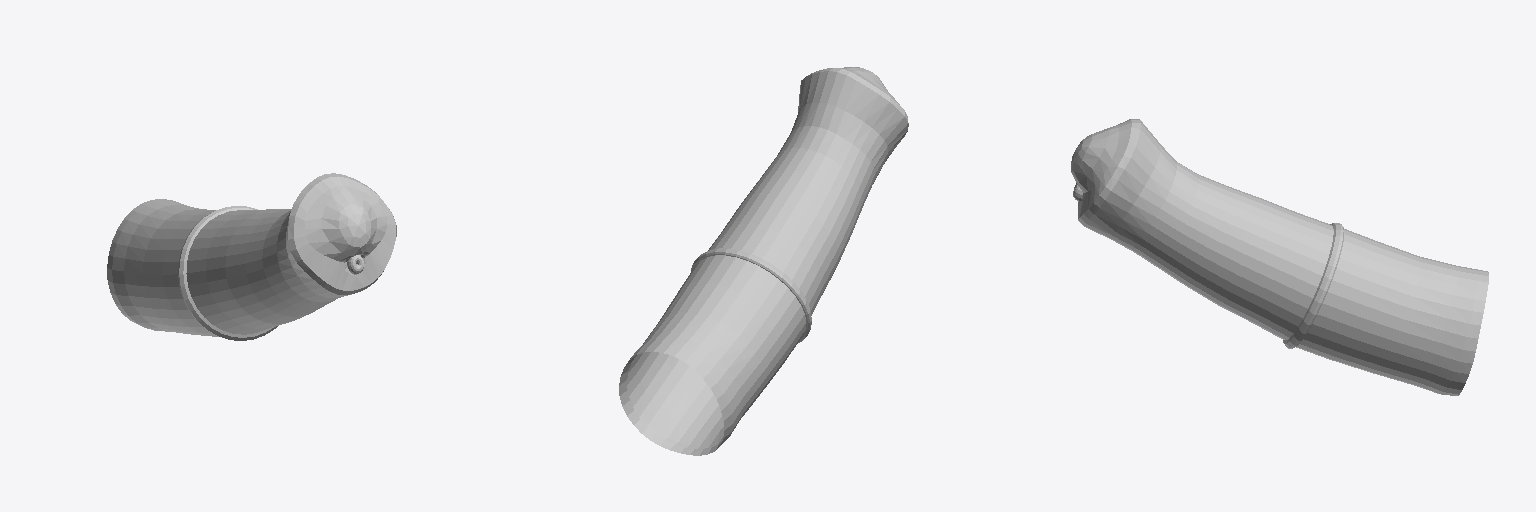
Rendered from Anthro shaft out.obj.
The picture shows the model from 3 angles: view 1: azimuth 30°, elevation 25°; view 2: azimuth 150°, elevation 25°; view 3: azimuth 270°, elevation 25°; orthographic projection.
Visible parts, largest first — view 1: dick_in_sheath.011_horsecock.014; view 2: dick_in_sheath.011_horsecock.014; view 3: dick_in_sheath.011_horsecock.014.
Part boxes in pixels (x1,y1,x2,y2): dick_in_sheath.011_horsecock.014: (107, 173, 396, 340); dick_in_sheath.011_horsecock.014: (619, 67, 908, 455); dick_in_sheath.011_horsecock.014: (1071, 119, 1488, 395).
Size of the model in its own units: 2.43 by 5.26 by 7.49.